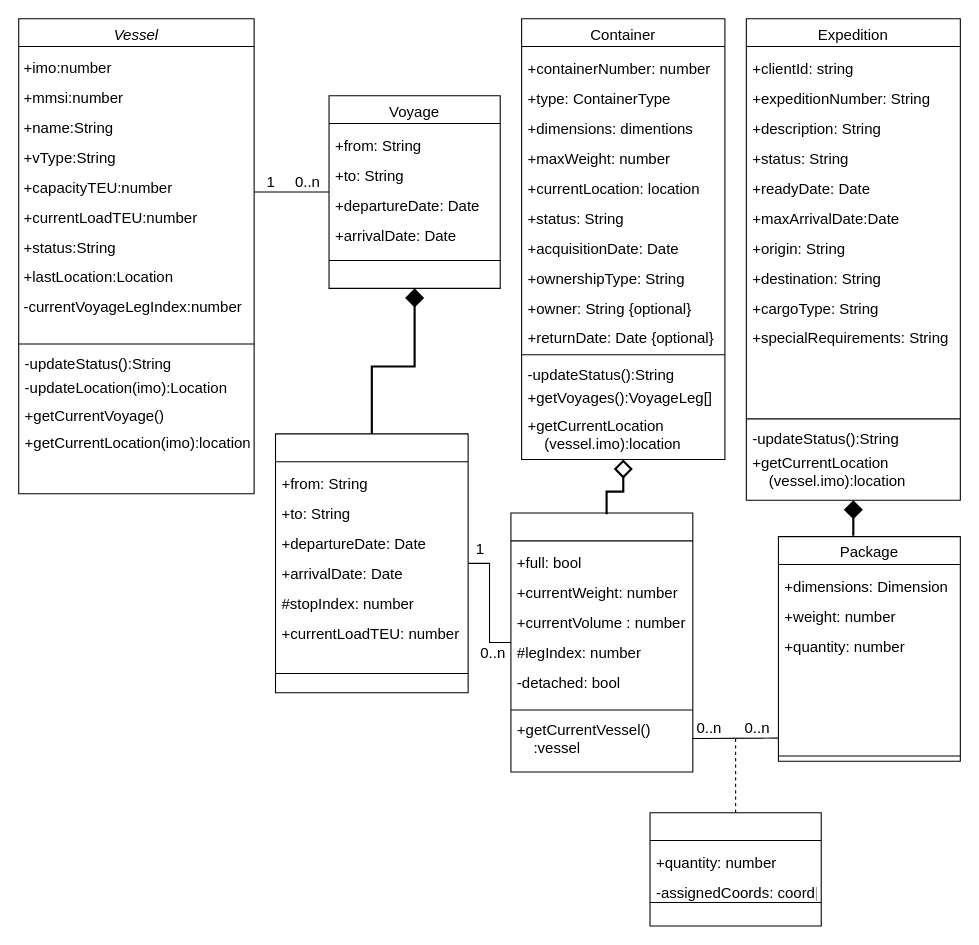
Image size: 979x945. Some labels were removed from this diagram. Here are the shapes that lost their labels. From the top down, the box of each, then its label:
(274, 433, 468, 693): VoyageLeg
(510, 512, 693, 772): ContainerLeg
(649, 812, 821, 926): PackageLoadSession
